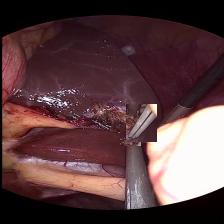Grasper: (125, 104, 155, 142)
Irrigator: (119, 126, 140, 146)
Specimen Bag: (115, 44, 142, 61)
